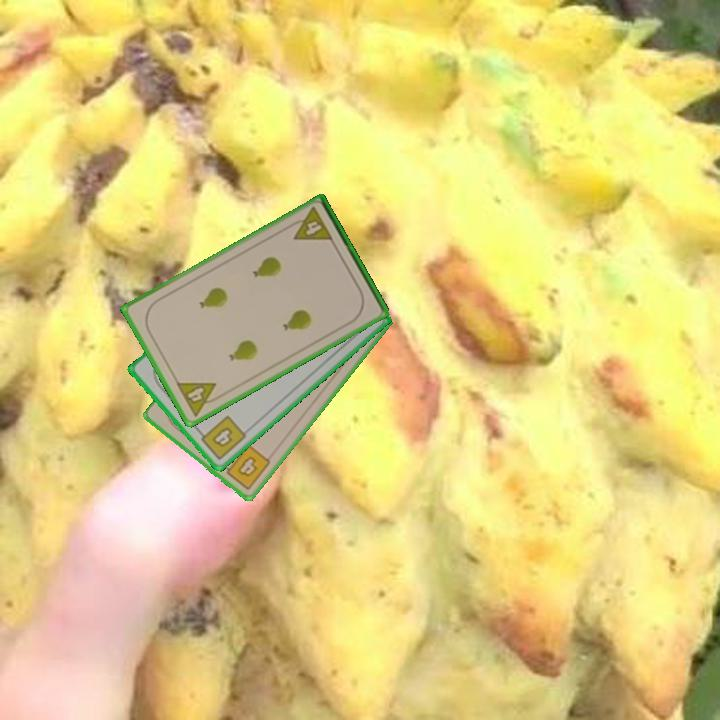4b: (218, 441, 274, 493), (194, 412, 249, 463)
4p: (173, 379, 225, 419), (285, 204, 336, 244)
